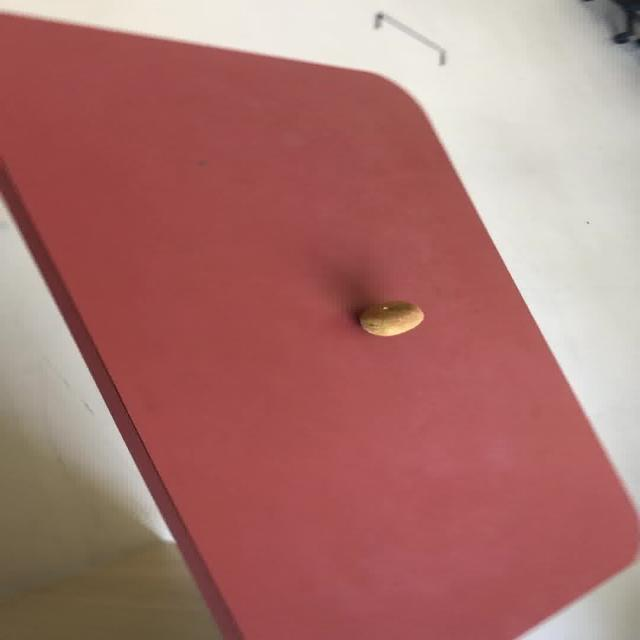kiwi: (357, 300, 424, 337)
